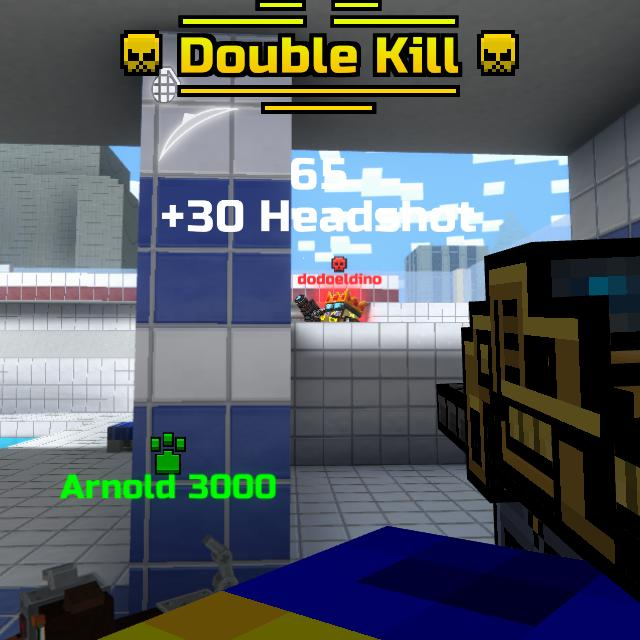Enemy: (312, 291, 367, 324)
